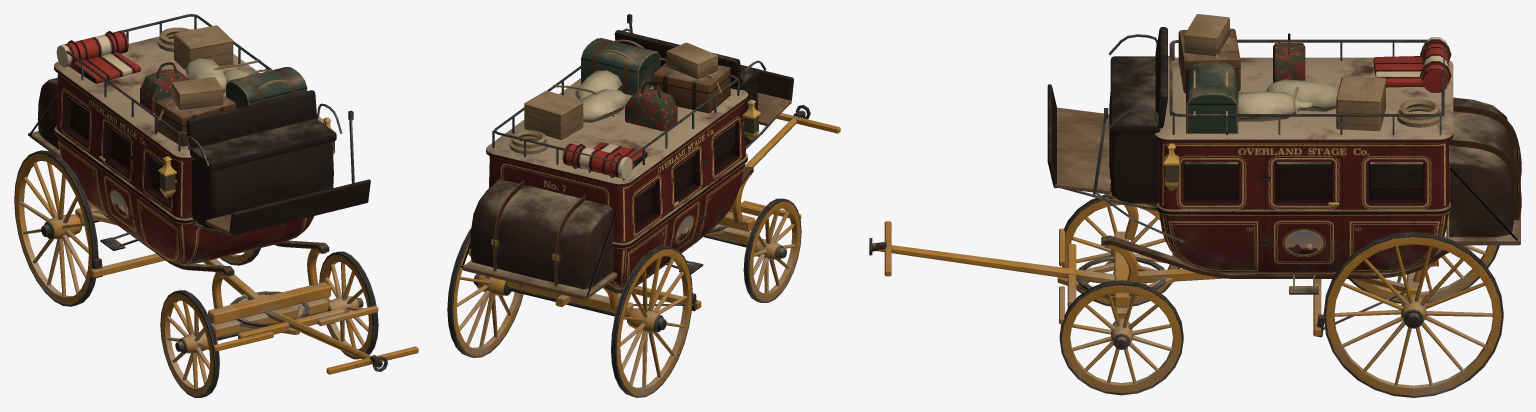
The model's file is stagecoach.glb.
The picture shows the model from 3 angles, left to right: view 1: azimuth 30°, elevation 25°; view 2: azimuth 150°, elevation 25°; view 3: azimuth 270°, elevation 25°; orthographic projection. The views are drawn at different scales.
Parts seen in each view (by area): view 1: Body, Chassis, Wheel_RR, Wheel_FR, Wheel_FL, Wheel_RL; view 2: Body, Wheel_RR, Chassis, Wheel_FR, Wheel_RL; view 3: Body, Wheel_RL, Chassis, Wheel_FL, Wheel_FR, Wheel_RR.
Part boxes in pixels (x1=…): Body: x1=28, y1=14, x2=370, y2=264; Chassis: x1=75, y1=202, x2=418, y2=374; Wheel_RR: x1=14, y1=150, x2=98, y2=306; Wheel_FR: x1=160, y1=290, x2=219, y2=397; Wheel_FL: x1=319, y1=251, x2=378, y2=359; Wheel_RL: x1=220, y1=248, x2=260, y2=265; Body: x1=460, y1=14, x2=793, y2=300; Wheel_RR: x1=611, y1=246, x2=692, y2=397; Chassis: x1=507, y1=105, x2=840, y2=316; Wheel_FR: x1=743, y1=198, x2=801, y2=302; Wheel_RL: x1=447, y1=228, x2=523, y2=357; Body: x1=1047, y1=14, x2=1521, y2=294; Wheel_RL: x1=1323, y1=232, x2=1503, y2=397; Chassis: x1=869, y1=183, x2=1466, y2=337; Wheel_FL: x1=1059, y1=280, x2=1183, y2=395; Wheel_FR: x1=1062, y1=195, x2=1180, y2=306; Wheel_RR: x1=1349, y1=235, x2=1499, y2=303.
Size of the model in its own units: 2.05 by 2.72 by 5.25.
Materials: 2 (2 with a texture image).
